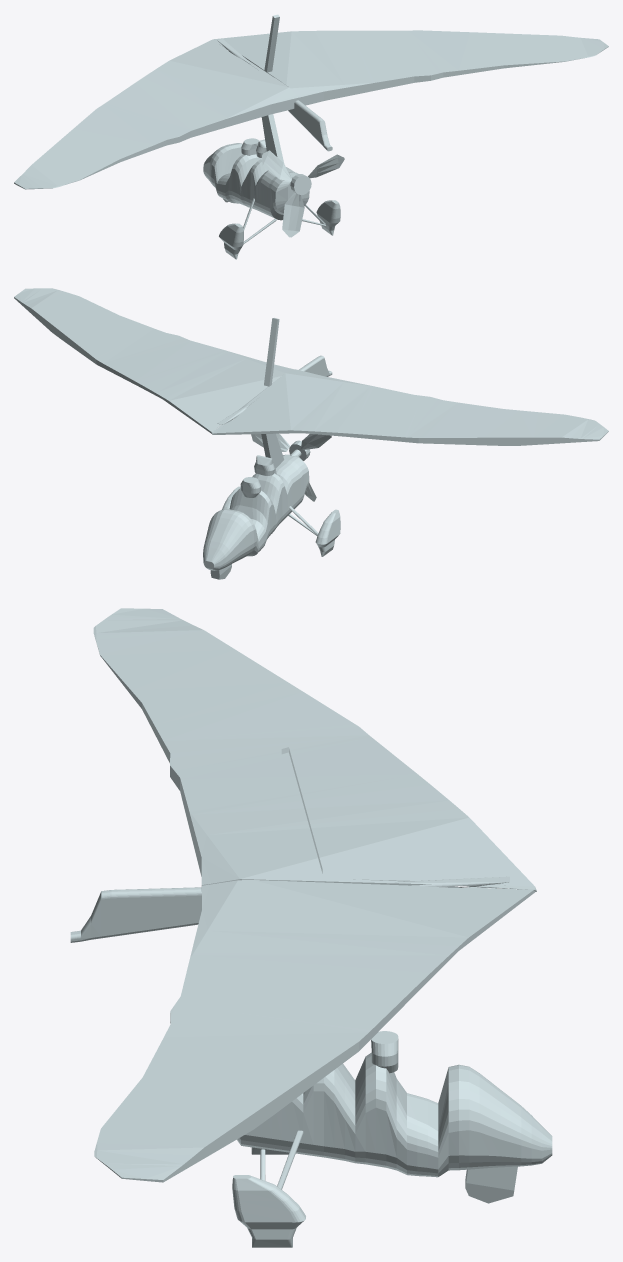
Rendered from ULAC.glb.
3 renders of one model, top to bottom at view 1: azimuth 30°, elevation 25°; view 2: azimuth 150°, elevation 25°; view 3: azimuth 270°, elevation 25°, orthographic. The views are drawn at different scales.
Visible parts, largest first — view 1: Aircraft visual hull, Rotor 1790953239137-suz2cqfzhz9; view 2: Aircraft visual hull, Rotor 1790953239137-suz2cqfzhz9; view 3: Aircraft visual hull.
Boxes of the visible parts, x1,y1,x2,y2 form: Aircraft visual hull: (14, 14, 608, 259); Rotor 1790953239137-suz2cqfzhz9: (262, 150, 344, 237); Aircraft visual hull: (14, 288, 608, 579); Rotor 1790953239137-suz2cqfzhz9: (251, 433, 331, 501); Aircraft visual hull: (70, 608, 552, 1247).
Bounding box in the file's own units: 10.37 × 3.82 × 3.7.
